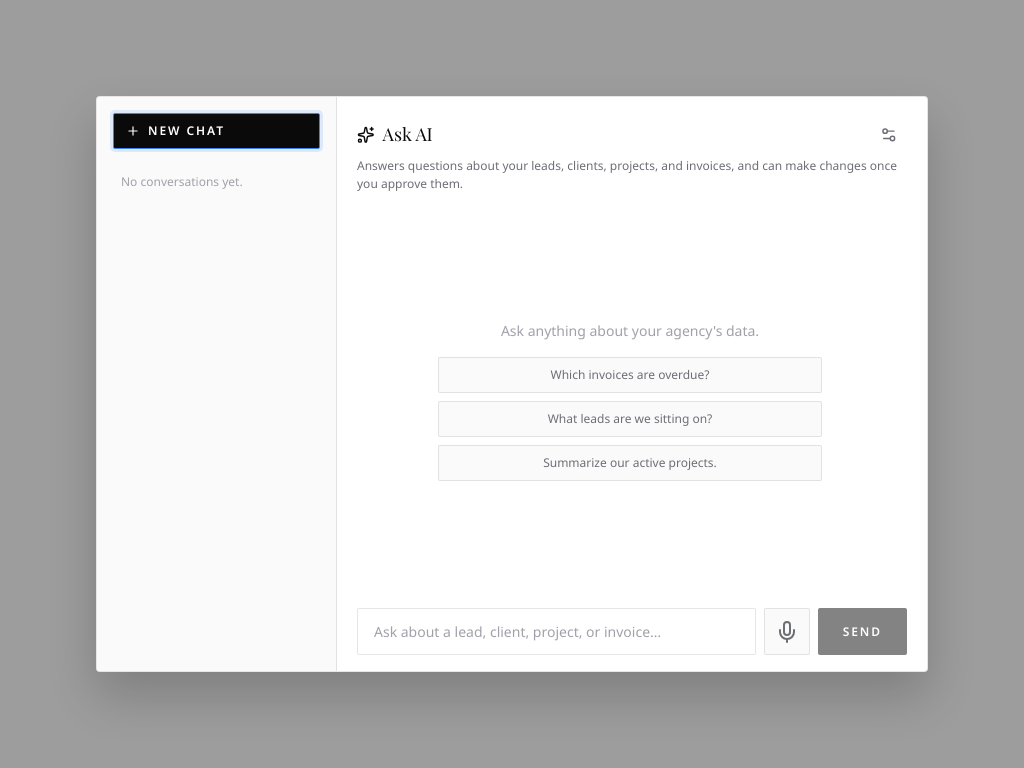
Test: AiModal › voice input › puts the transcript in the composer instead when auto-send is off
Expected: the text "can make changes once you approve them" is shown, x1=357 y1=157 x2=897 y2=192
Step 1. Click the button named "Ask with your voice" → [787, 632], box x1=764 y1=608 x2=810 y2=655
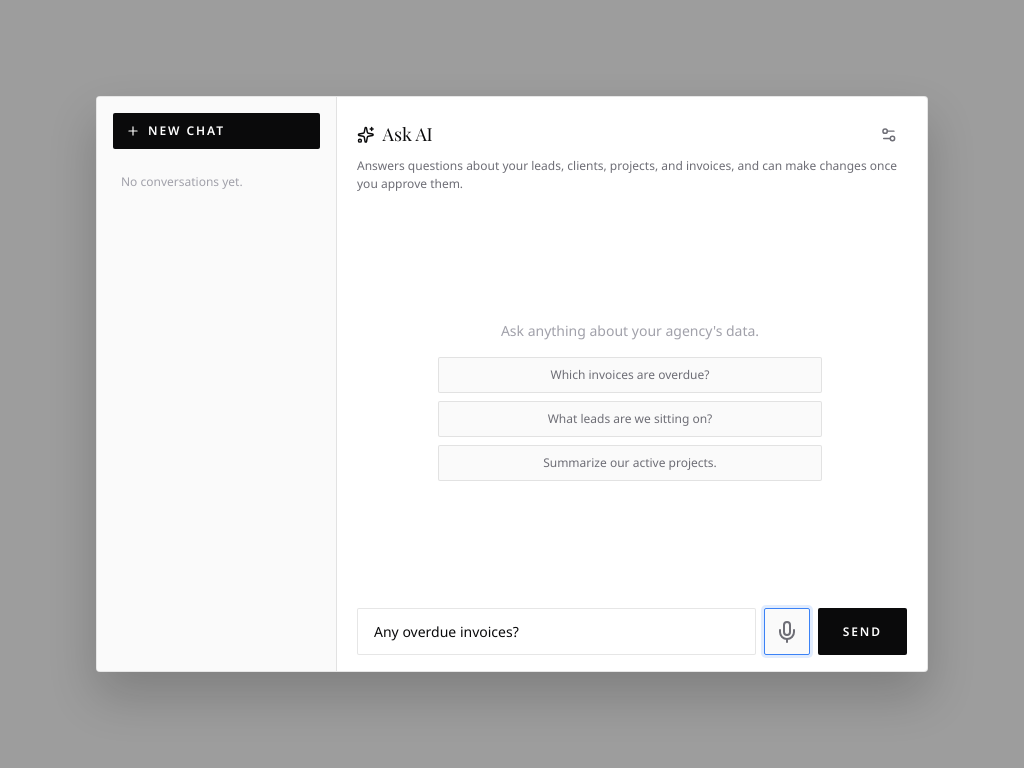
Expected: the field holds "Any overdue invoices?", x1=357 y1=608 x2=756 y2=655
